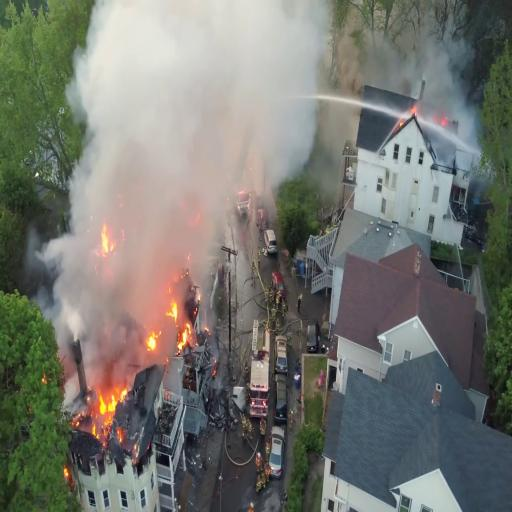fire: (165, 297, 186, 348), (96, 381, 119, 424), (98, 219, 120, 261)
smoke: (129, 4, 201, 253)
